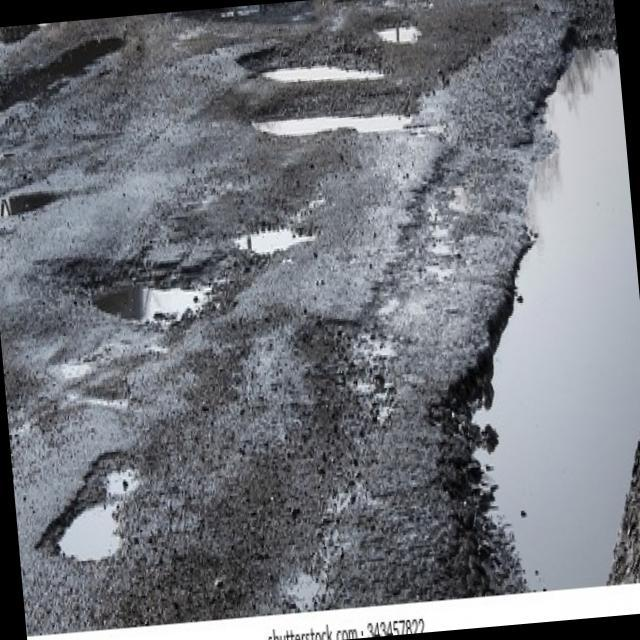Pothole: (66, 242, 216, 340), (242, 85, 417, 154), (234, 33, 390, 98), (36, 500, 126, 571), (226, 217, 320, 262), (90, 442, 146, 500), (370, 16, 424, 48)
